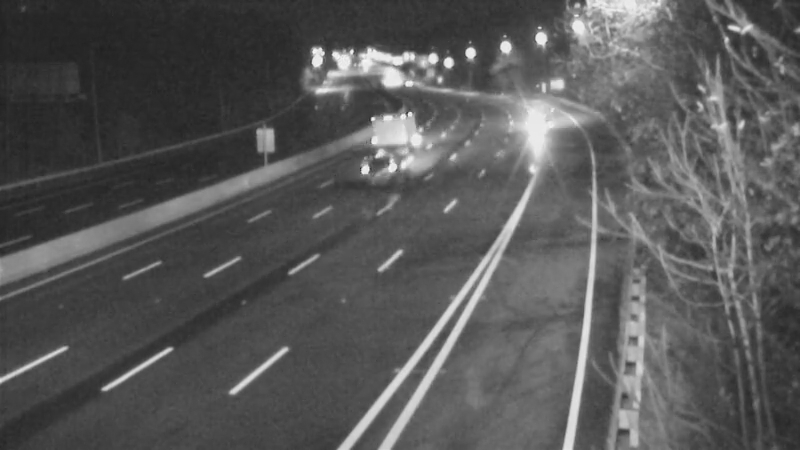vehicle: (345, 123, 425, 203), (383, 60, 433, 110), (516, 100, 566, 150), (368, 103, 418, 153)
